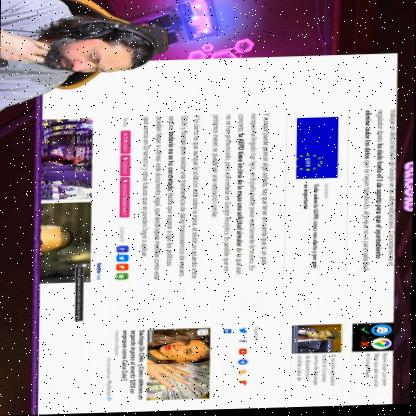streamer: (0, 0, 160, 115)
